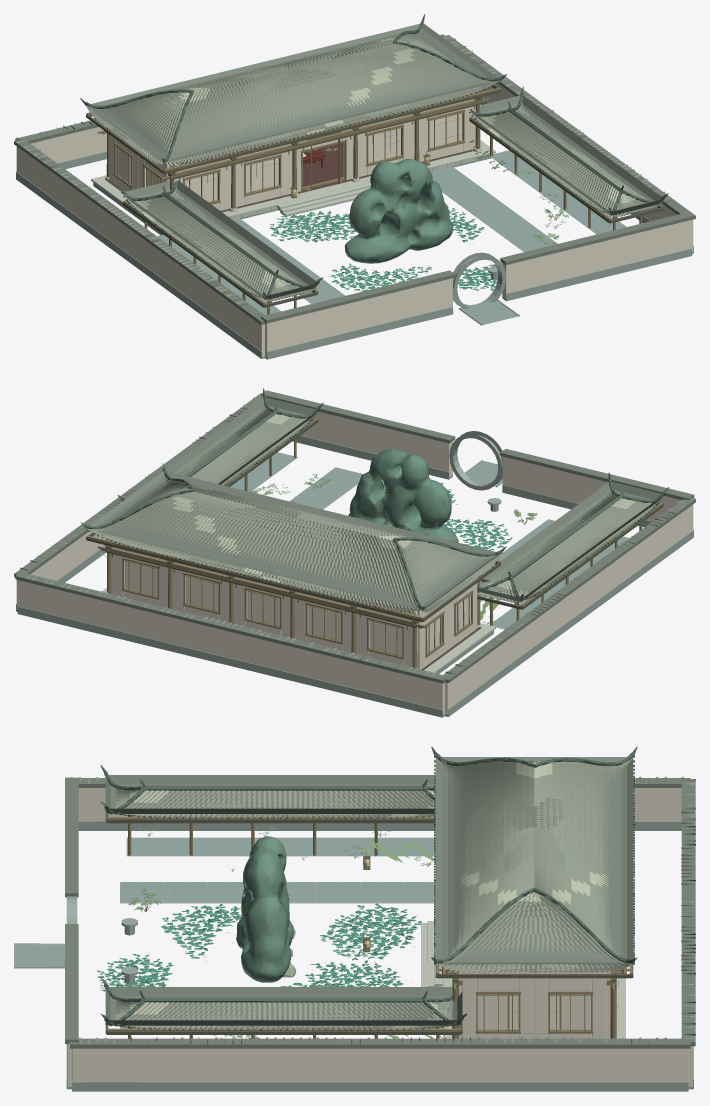
The model's file is hengwuyuan.glb.
The picture shows the model from 3 angles, top to bottom: view 1: azimuth 30°, elevation 25°; view 2: azimuth 150°, elevation 25°; view 3: azimuth 270°, elevation 25°; orthographic projection. The views are drawn at different scales.
Visible parts, largest first — view 1: r15_hengwuyuan_Sunwen_r18_herbal_tile.001, r15_hengwuyuan_Sunwen_r18_herbal_roof.001, r15_hengwuyuan_Sunwen_r18_herbal_plaster.001, r15_hengwuyuan_Sunwen_r18_herbal_wood.001, Mobile_hengwuyuan_paving, Mobile_hengwuyuan_gardenstone, r15_hengwuyuan_Sunwen_r18_herbal_stone.001, r15_hengwuyuan_Sunwen_r18_herbal_plaster.003, r15_hengwuyuan_Sunwen_r18_herbal_darkwood.001, r15_hengwuyuan_Sunwen_r18_herbal_tiledark.001, Mobile_hengwuyuan_botanical_bamboo, r15_hengwuyuan_Sunwen_r18_herbal_cutstone.001 (+4 smaller); view 2: r15_hengwuyuan_Sunwen_r18_herbal_tile.001, r15_hengwuyuan_Sunwen_r18_herbal_roof.001, r15_hengwuyuan_Sunwen_r18_herbal_plaster.001, r15_hengwuyuan_Sunwen_r18_herbal_stone.001, r15_hengwuyuan_Sunwen_r18_herbal_wood.001, r15_hengwuyuan_Sunwen_r18_herbal_plaster.003, Mobile_hengwuyuan_gardenstone, r15_hengwuyuan_Sunwen_r18_herbal_screen.002, Mobile_hengwuyuan_paving, r15_hengwuyuan_Sunwen_r18_herbal_tiledark.001, r15_hengwuyuan_Sunwen_r18_herbal_darkwood.001, r15_hengwuyuan_Sunwen_r18_herbal_tilelight.001 (+3 smaller); view 3: r15_hengwuyuan_Sunwen_r18_herbal_tile.001, r15_hengwuyuan_Sunwen_r18_herbal_roof.001, r15_hengwuyuan_Sunwen_r18_herbal_plaster.001, Mobile_hengwuyuan_paving, r15_hengwuyuan_Sunwen_r18_herbal_stone.001, r15_hengwuyuan_Sunwen_r18_herbal_tiledark.001, Mobile_hengwuyuan_botanical_bamboo, Mobile_hengwuyuan_gardenstone, r15_hengwuyuan_Sunwen_r18_herbal_plaster.003, r15_hengwuyuan_Sunwen_r18_herbal_wood.001, r15_hengwuyuan_Sunwen_r18_herbal_darkwood.001, r15_hengwuyuan_Sunwen_r18_herbal_tilelight.001 (+4 smaller).
Part boxes in pixels (<box>): r15_hengwuyuan_Sunwen_r18_herbal_tile.001: <box>16,26,682,320</box>; r15_hengwuyuan_Sunwen_r18_herbal_roof.001: <box>14,23,695,324</box>; r15_hengwuyuan_Sunwen_r18_herbal_plaster.001: <box>16,83,693,357</box>; r15_hengwuyuan_Sunwen_r18_herbal_wood.001: <box>86,87,663,314</box>; Mobile_hengwuyuan_paving: <box>158,150,626,324</box>; Mobile_hengwuyuan_gardenstone: <box>344,159,453,263</box>; r15_hengwuyuan_Sunwen_r18_herbal_stone.001: <box>16,97,693,359</box>; r15_hengwuyuan_Sunwen_r18_herbal_plaster.003: <box>109,88,475,210</box>; r15_hengwuyuan_Sunwen_r18_herbal_darkwood.001: <box>86,84,663,307</box>; r15_hengwuyuan_Sunwen_r18_herbal_tiledark.001: <box>80,14,668,299</box>; Mobile_hengwuyuan_botanical_bamboo: <box>269,207,502,290</box>; r15_hengwuyuan_Sunwen_r18_herbal_cutstone.001: <box>91,140,495,219</box>; r15_hengwuyuan_Sunwen_r18_herbal_tile.001: <box>20,393,695,679</box>; r15_hengwuyuan_Sunwen_r18_herbal_roof.001: <box>14,390,695,683</box>; r15_hengwuyuan_Sunwen_r18_herbal_plaster.001: <box>16,411,693,715</box>; r15_hengwuyuan_Sunwen_r18_herbal_stone.001: <box>16,431,693,717</box>; r15_hengwuyuan_Sunwen_r18_herbal_wood.001: <box>86,418,663,668</box>; r15_hengwuyuan_Sunwen_r18_herbal_plaster.003: <box>111,536,477,669</box>; Mobile_hengwuyuan_gardenstone: <box>348,449,458,542</box>; r15_hengwuyuan_Sunwen_r18_herbal_screen.002: <box>125,561,456,655</box>; Mobile_hengwuyuan_paving: <box>230,452,629,629</box>; r15_hengwuyuan_Sunwen_r18_herbal_tiledark.001: <box>80,388,669,612</box>; r15_hengwuyuan_Sunwen_r18_herbal_darkwood.001: <box>86,418,663,670</box>; r15_hengwuyuan_Sunwen_r18_herbal_tilelight.001: <box>173,412,635,596</box>; r15_hengwuyuan_Sunwen_r18_herbal_tile.001: <box>70,757,695,1044</box>; r15_hengwuyuan_Sunwen_r18_herbal_roof.001: <box>65,757,695,1048</box>; r15_hengwuyuan_Sunwen_r18_herbal_plaster.001: <box>67,788,693,1086</box>; Mobile_hengwuyuan_paving: <box>14,837,441,1028</box>; r15_hengwuyuan_Sunwen_r18_herbal_stone.001: <box>14,821,693,1091</box>; r15_hengwuyuan_Sunwen_r18_herbal_tiledark.001: <box>100,746,637,1030</box>; Mobile_hengwuyuan_botanical_bamboo: <box>97,903,421,991</box>; Mobile_hengwuyuan_gardenstone: <box>236,836,293,982</box>; r15_hengwuyuan_Sunwen_r18_herbal_plaster.003: <box>458,965,610,1038</box>; r15_hengwuyuan_Sunwen_r18_herbal_wood.001: <box>107,814,632,1038</box>; r15_hengwuyuan_Sunwen_r18_herbal_darkwood.001: <box>105,813,633,1034</box>; r15_hengwuyuan_Sunwen_r18_herbal_tilelight.001: <box>130,762,608,1029</box>.
Size of the model in its own units: 32.76 by 7.89 by 35.38.
